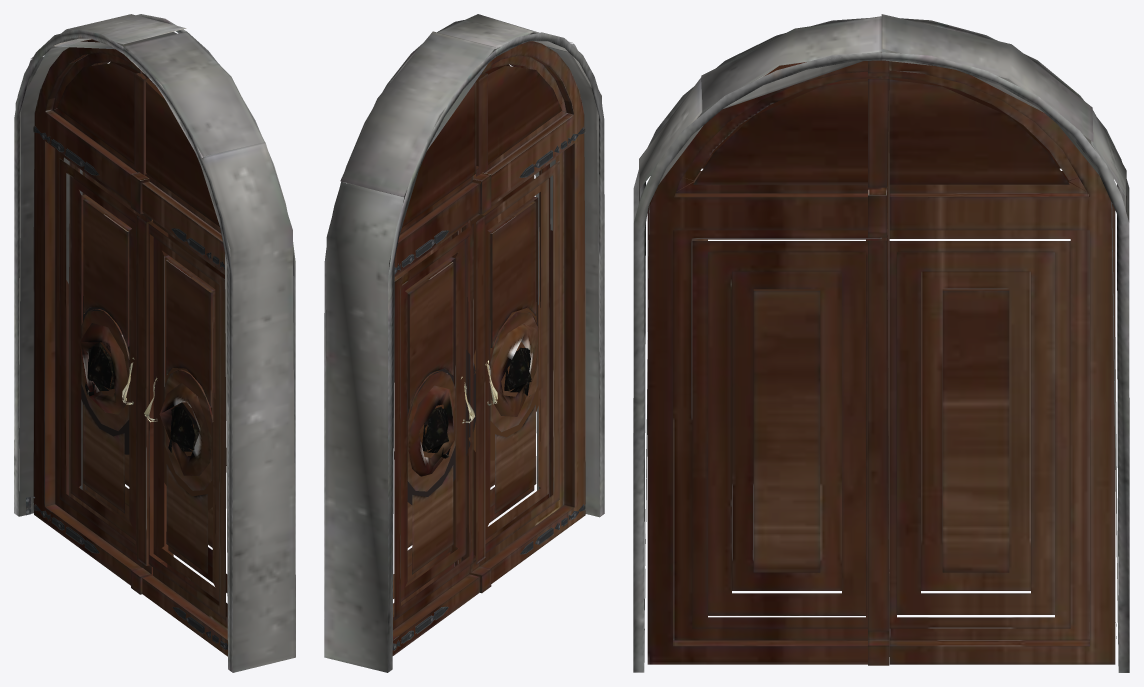
Rendered from porta.glb.
3 renders of one model, left to right at view 1: azimuth 30°, elevation 25°; view 2: azimuth 150°, elevation 25°; view 3: azimuth 270°, elevation 25°, orthographic. The views are drawn at different scales.
Parts seen in each view (by area): view 1: Jamb_Door_0, Object_18, Object_16; view 2: Jamb_Door_0, Object_16, Object_18; view 3: Object_16, Object_18, Jamb_Door_0.
Boxes of the visible parts, x1=… form: Jamb_Door_0: x1=14, y1=14, x2=295, y2=672; Object_18: x1=26, y1=39, x2=150, y2=585; Object_16: x1=131, y1=61, x2=227, y2=656; Jamb_Door_0: x1=324, y1=14, x2=604, y2=672; Object_16: x1=450, y1=41, x2=585, y2=593; Object_18: x1=392, y1=81, x2=479, y2=655; Object_16: x1=647, y1=60, x2=889, y2=665; Object_18: x1=880, y1=61, x2=1116, y2=664; Jamb_Door_0: x1=633, y1=14, x2=1129, y2=672.
Bounding box in the file's own units: 0.287 × 2.36 × 1.7.
1 material, 1 textured.
